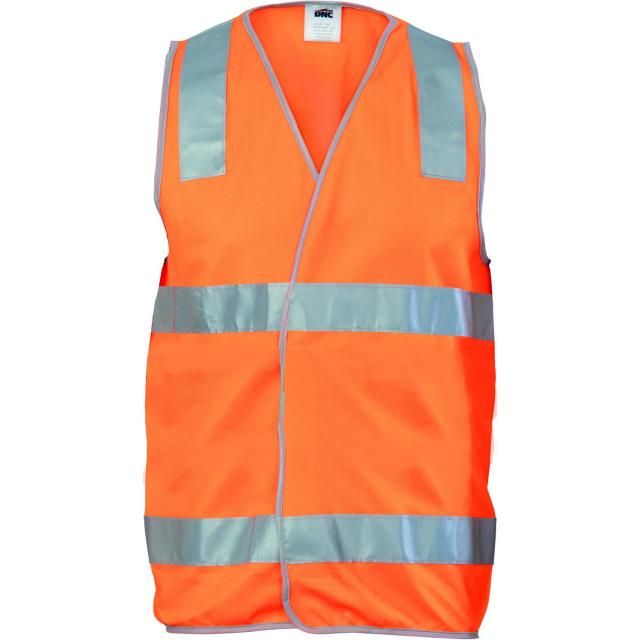Reflective-Jacket: (96, 4, 534, 640)
